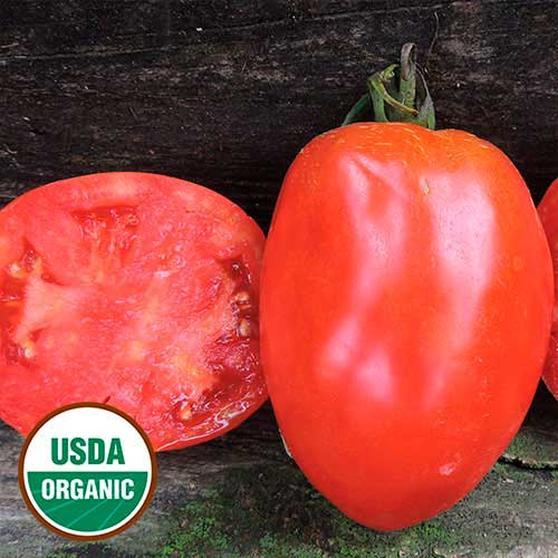tomato: (241, 82, 548, 529)
